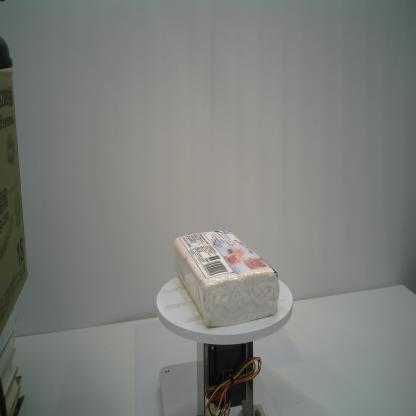Tissue: (172, 228, 282, 331)
